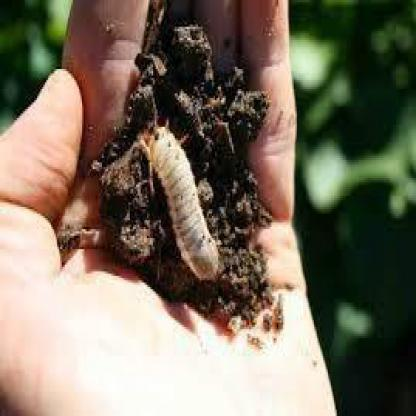root grubs: (142, 124, 221, 280)
